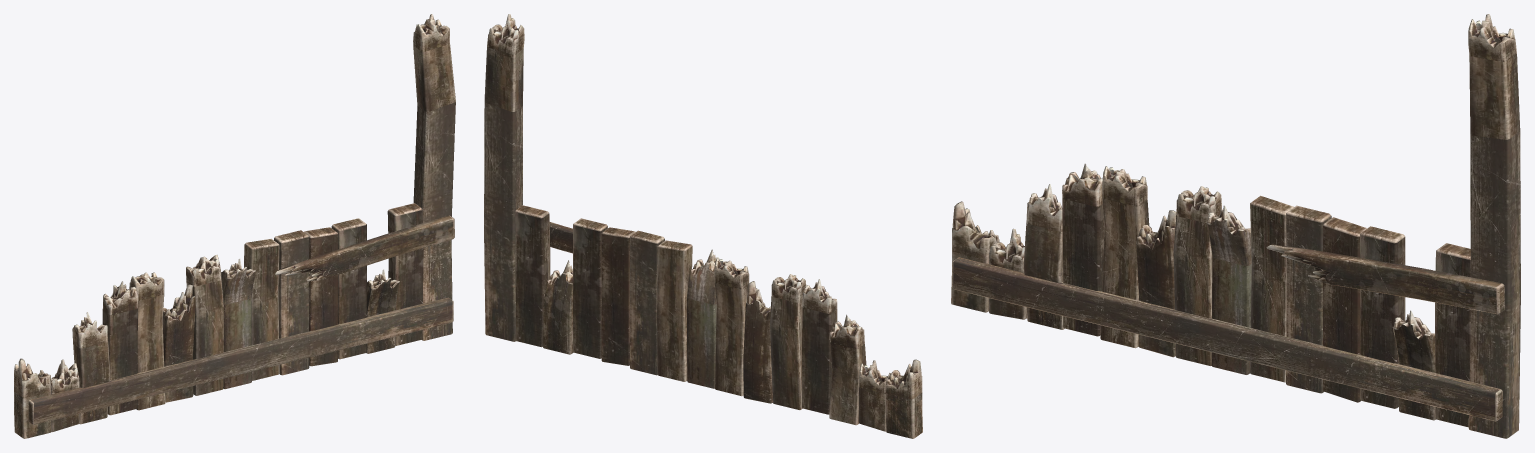
3 renders of one model, left to right at view 1: azimuth 30°, elevation 25°; view 2: azimuth 150°, elevation 25°; view 3: azimuth 330°, elevation 25°, orthographic. The views are drawn at different scales.
Parts seen in each view (by area): view 1: SM_Human_Ruins_Wall_Wood_Dmg_01_LOD0; view 2: SM_Human_Ruins_Wall_Wood_Dmg_01_LOD0; view 3: SM_Human_Ruins_Wall_Wood_Dmg_01_LOD0.
Boxes of the visible parts, x1=… form: SM_Human_Ruins_Wall_Wood_Dmg_01_LOD0: x1=14, y1=14, x2=455, y2=438; SM_Human_Ruins_Wall_Wood_Dmg_01_LOD0: x1=484, y1=14, x2=922, y2=438; SM_Human_Ruins_Wall_Wood_Dmg_01_LOD0: x1=951, y1=14, x2=1520, y2=438.
Size of the model in its own units: 4.02 by 2.87 by 0.2816.
Materials: 1 (1 with a texture image).
